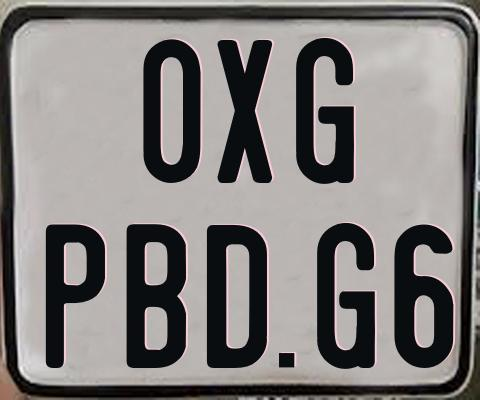0: (140, 38, 198, 183)
6: (391, 224, 454, 369)
B: (125, 224, 185, 373)
D: (206, 225, 269, 370)
G: (294, 35, 354, 182), (315, 223, 374, 369)
P: (43, 221, 108, 365)
X: (217, 37, 274, 180)
